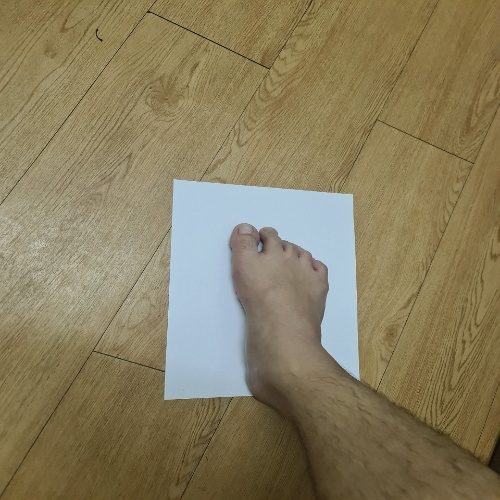Top_Foot: (146, 166, 395, 412)
